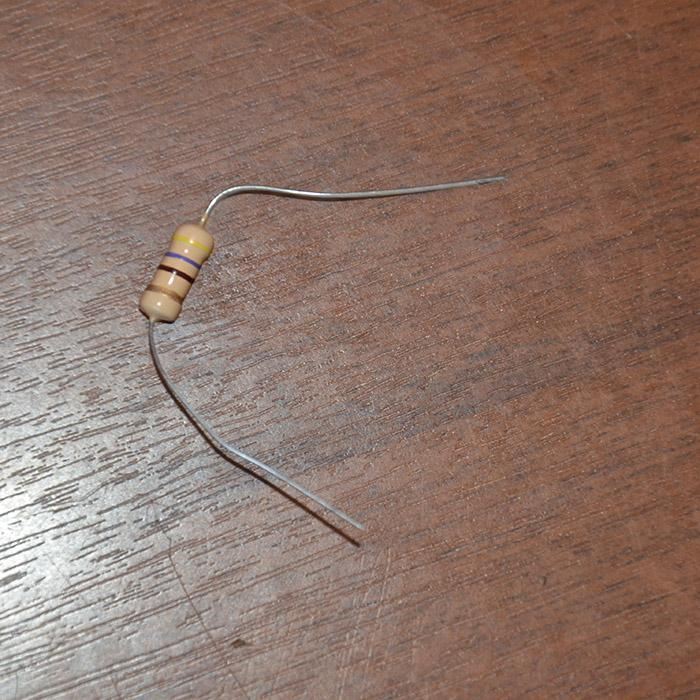resistor: (140, 219, 215, 320)
